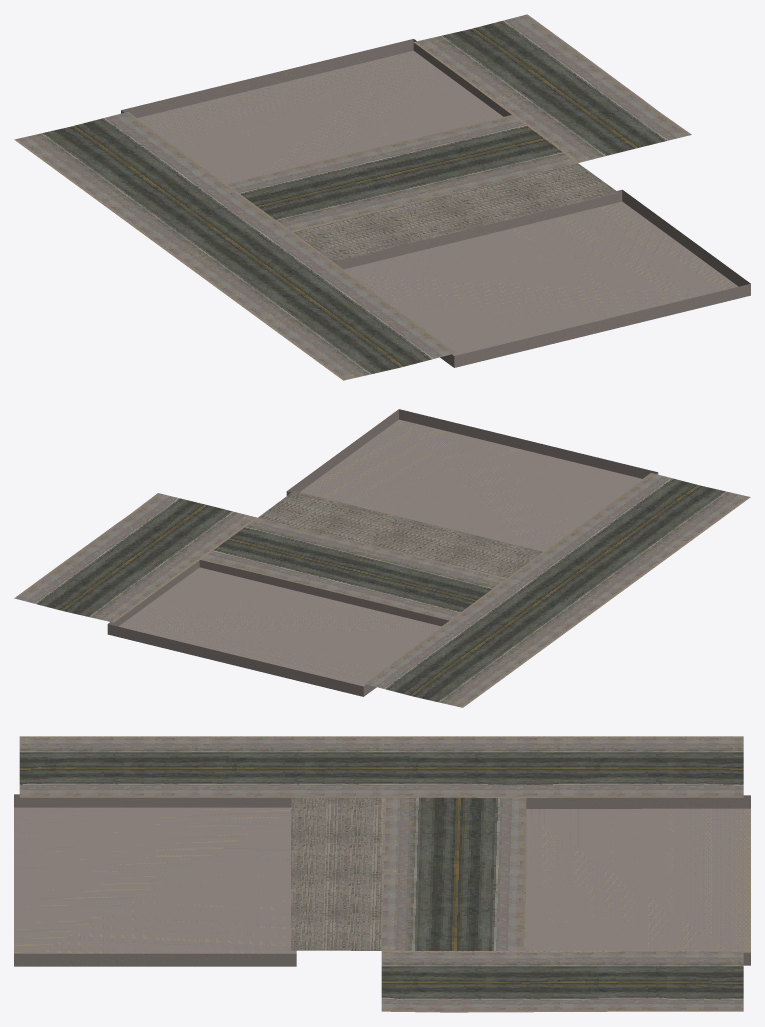
The model's file is lodcunte_roads87.obj.
3 views of the same model, one above another, from view 1: azimuth 30°, elevation 25°; view 2: azimuth 150°, elevation 25°; view 3: azimuth 270°, elevation 25° (orthographic). The views are drawn at different scales.
Parts seen in each view (by area): view 1: LODcunte_roads87; view 2: LODcunte_roads87; view 3: LODcunte_roads87.
Part boxes in pixels (x1,y1,x2,y2): LODcunte_roads87: [14, 14, 750, 380]; LODcunte_roads87: [14, 409, 750, 707]; LODcunte_roads87: [14, 736, 750, 1012].
Size of the model in its own units: 90 by 2.07 by 102.
Materials: 2 (2 with a texture image).
